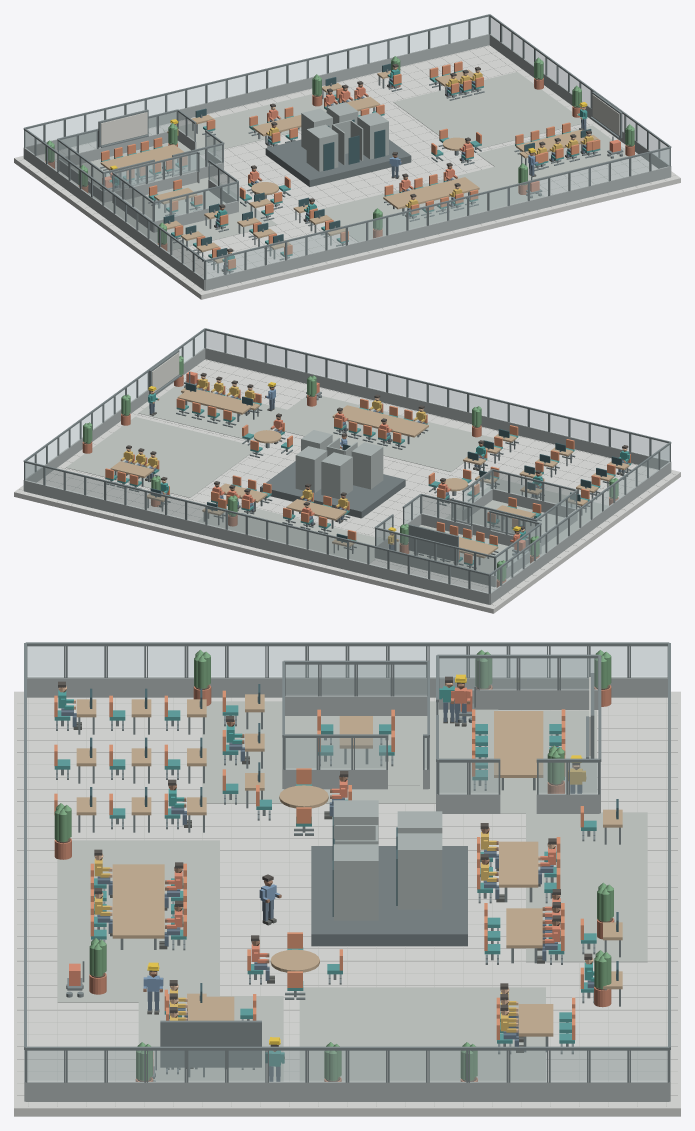
Rendered from ABW16F.glb.
The picture shows the model from 3 angles, top to bottom: view 1: azimuth 30°, elevation 25°; view 2: azimuth 150°, elevation 25°; view 3: azimuth 270°, elevation 25°; orthographic projection. The views are drawn at different scales.
Parts seen in each view (by area): view 1: Open floor slab, Right training zone rug, South meeting rug, Upper work zone rug, Central core base, East meeting rug, Left work zone rug, South collaboration top, Lift core 1, Northwest whiteboard panel, West small meeting rug, Northwest meeting rug (+7 smaller); view 2: Open floor slab, Right training zone rug, South meeting rug, Upper work zone rug, East meeting rug, Central core base, Left work zone rug, Lift core 1, Lift core 4, Northwest whiteboard frame, South collaboration top, Lift core 5 (+7 smaller); view 3: Open floor slab, Right training zone rug, South meeting rug, Upper work zone rug, Central core base, Left work zone rug, Northwest meeting rug, West small meeting rug, East meeting rug, East whiteboard frame, South collaboration top, Lift core 3 (+89 smaller).
Part boxes in pixels (left/top/right/bottom): Open floor slab: left=14, top=45, right=680, bottom=299; Right training zone rug: left=393, top=72, right=586, bottom=151; South meeting rug: left=318, top=166, right=544, bottom=241; Upper work zone rug: left=163, top=90, right=360, bottom=154; Central core base: left=265, top=139, right=411, bottom=186; East meeting rug: left=477, top=125, right=628, bottom=183; Left work zone rug: left=88, top=176, right=277, bottom=251; South collaboration top: left=383, top=177, right=479, bottom=209; Lift core 1: left=306, top=124, right=338, bottom=171; Northwest whiteboard panel: left=101, top=112, right=147, bottom=145; West small meeting rug: left=127, top=185, right=220, bottom=220; Northwest meeting rug: left=71, top=141, right=210, bottom=187; Open floor slab: left=14, top=359, right=680, bottom=613; Right training zone rug: left=66, top=417, right=252, bottom=497; South meeting rug: left=270, top=396, right=494, bottom=471; Upper work zone rug: left=197, top=504, right=382, bottom=563; East meeting rug: left=138, top=384, right=294, bottom=440; Central core base: left=260, top=461, right=405, bottom=518; Left work zone rug: left=433, top=479, right=608, bottom=566; Lift core 1: left=351, top=442, right=383, bottom=489; Lift core 4: left=321, top=452, right=352, bottom=498; Northwest whiteboard frame: left=408, top=524, right=458, bottom=562; South collaboration top: left=332, top=405, right=428, bottom=437; Lift core 5: left=295, top=446, right=327, bottom=493; Open floor slab: left=14, top=691, right=680, bottom=1116; Right training zone rug: left=299, top=987, right=545, bottom=1081; South meeting rug: left=57, top=840, right=219, bottom=1002; Upper work zone rug: left=526, top=812, right=647, bottom=962; Central core base: left=311, top=846, right=467, bottom=946; Left work zone rug: left=202, top=701, right=497, bottom=803; Northwest meeting rug: left=440, top=710, right=596, bottom=813; West small meeting rug: left=292, top=719, right=419, bottom=785; East meeting rug: left=138, top=996, right=283, bottom=1081; East whiteboard frame: left=160, top=1020, right=261, bottom=1067; South collaboration top: left=112, top=864, right=164, bottom=938; Lift core 3: left=333, top=844, right=378, bottom=920.
Bounding box in the file's own units: 34 × 4.44 × 23.
